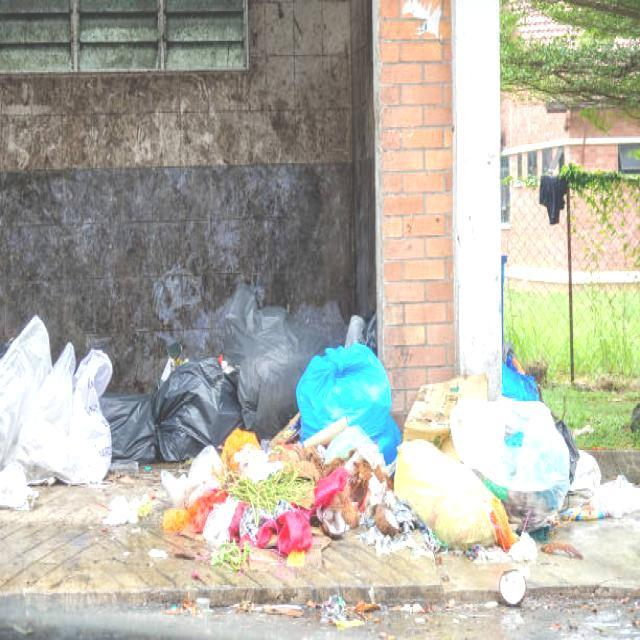high trash: (0, 285, 640, 565)
less trash: (319, 595, 381, 629), (499, 570, 526, 606), (239, 604, 308, 617)
